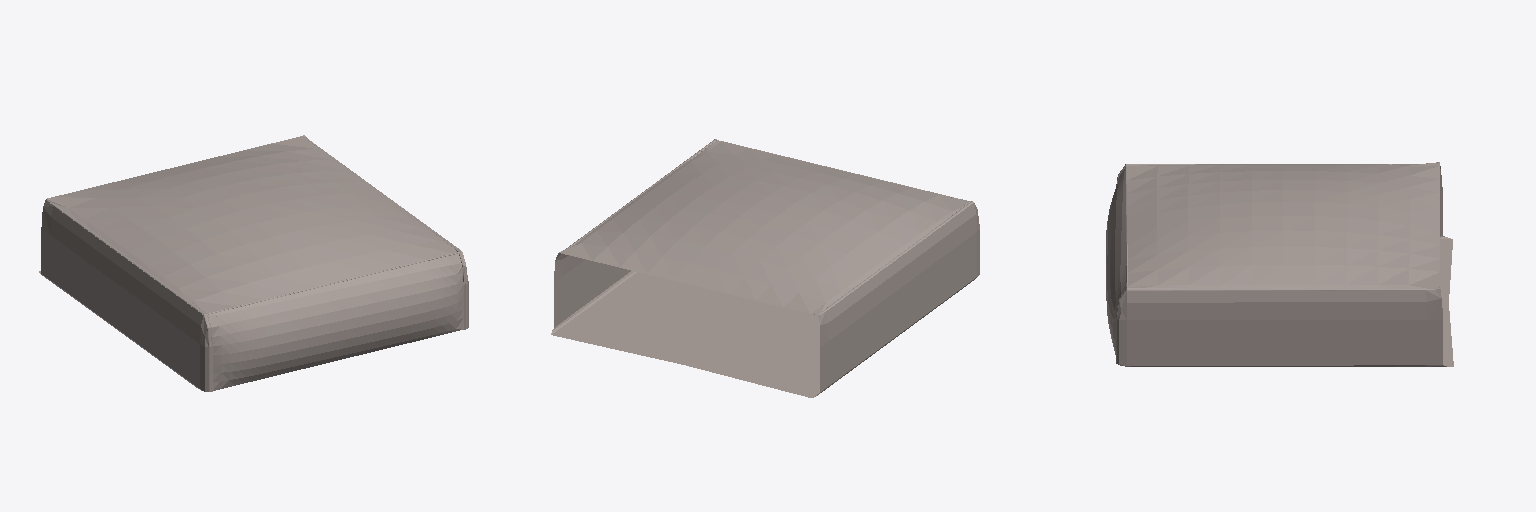
File: seat.obj
3 views of the same model, side by side, from view 1: azimuth 30°, elevation 25°; view 2: azimuth 150°, elevation 25°; view 3: azimuth 270°, elevation 25° (orthographic).
Parts seen in each view (by area): view 1: seat; view 2: seat; view 3: seat.
Part boxes in pixels (left/top/right/bottom): seat: left=39, top=135, right=468, bottom=391; seat: left=551, top=139, right=979, bottom=397; seat: left=1106, top=162, right=1453, bottom=366.
Size of the model in its own units: 15.56 by 5.26 by 17.59.